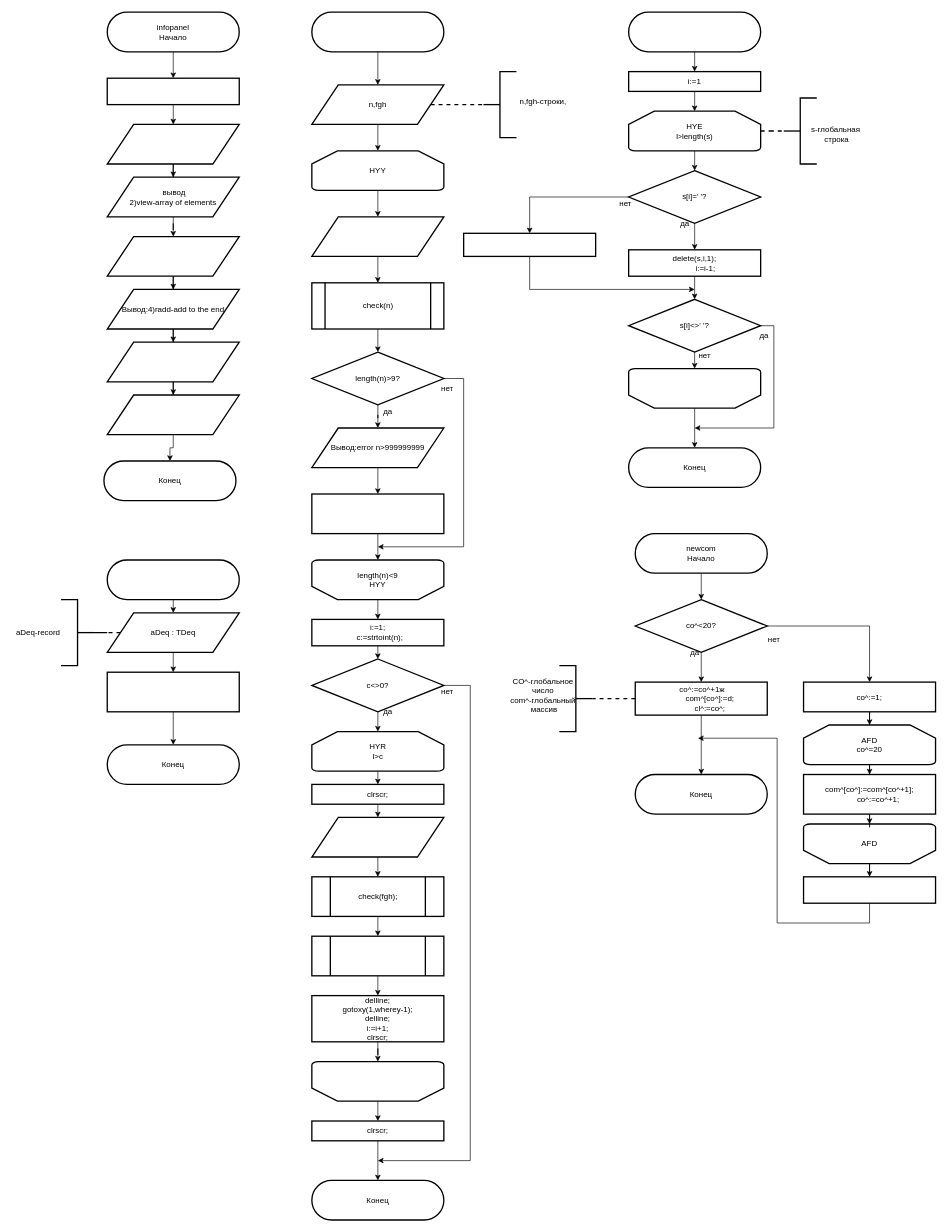
This 947x1232 diagram has some shape labels left out. Here are the shapes that lost their labels. From the top down, the centre of each, then its label:
At (x=377, y=31): "input Начало".
At (x=694, y=31): "whitespace Начало".
At (x=173, y=91): "gotoxy(1,1);".
At (x=173, y=143): "Вывод:l1)add-Creating an array of elements".
At (x=173, y=256): "Вывод:l3)ladd-add to the beginning".
At (x=377, y=236): "Вывод:enter the number of eliminations".
At (x=529, y=244): "i:=i+1;".
At (x=173, y=361): "Вывод:5)free-Free memory".
At (x=694, y=388): "HYE".
At (x=173, y=414): "Вывод:6)exit".
At (x=377, y=513): "delay(400); clrscr;".
At (x=173, y=579): "Init Начало".
At (x=173, y=691): "aDeq.PFirst := nil; aDeq.PLast := nil;".
At (x=377, y=836): "Вывод:'enter element [',i,']='".
At (x=869, y=890): "com^[co^]:=d;".
At (x=377, y=955): "PushL(D1,fgh);".
At (x=377, y=1081): "HYR".
